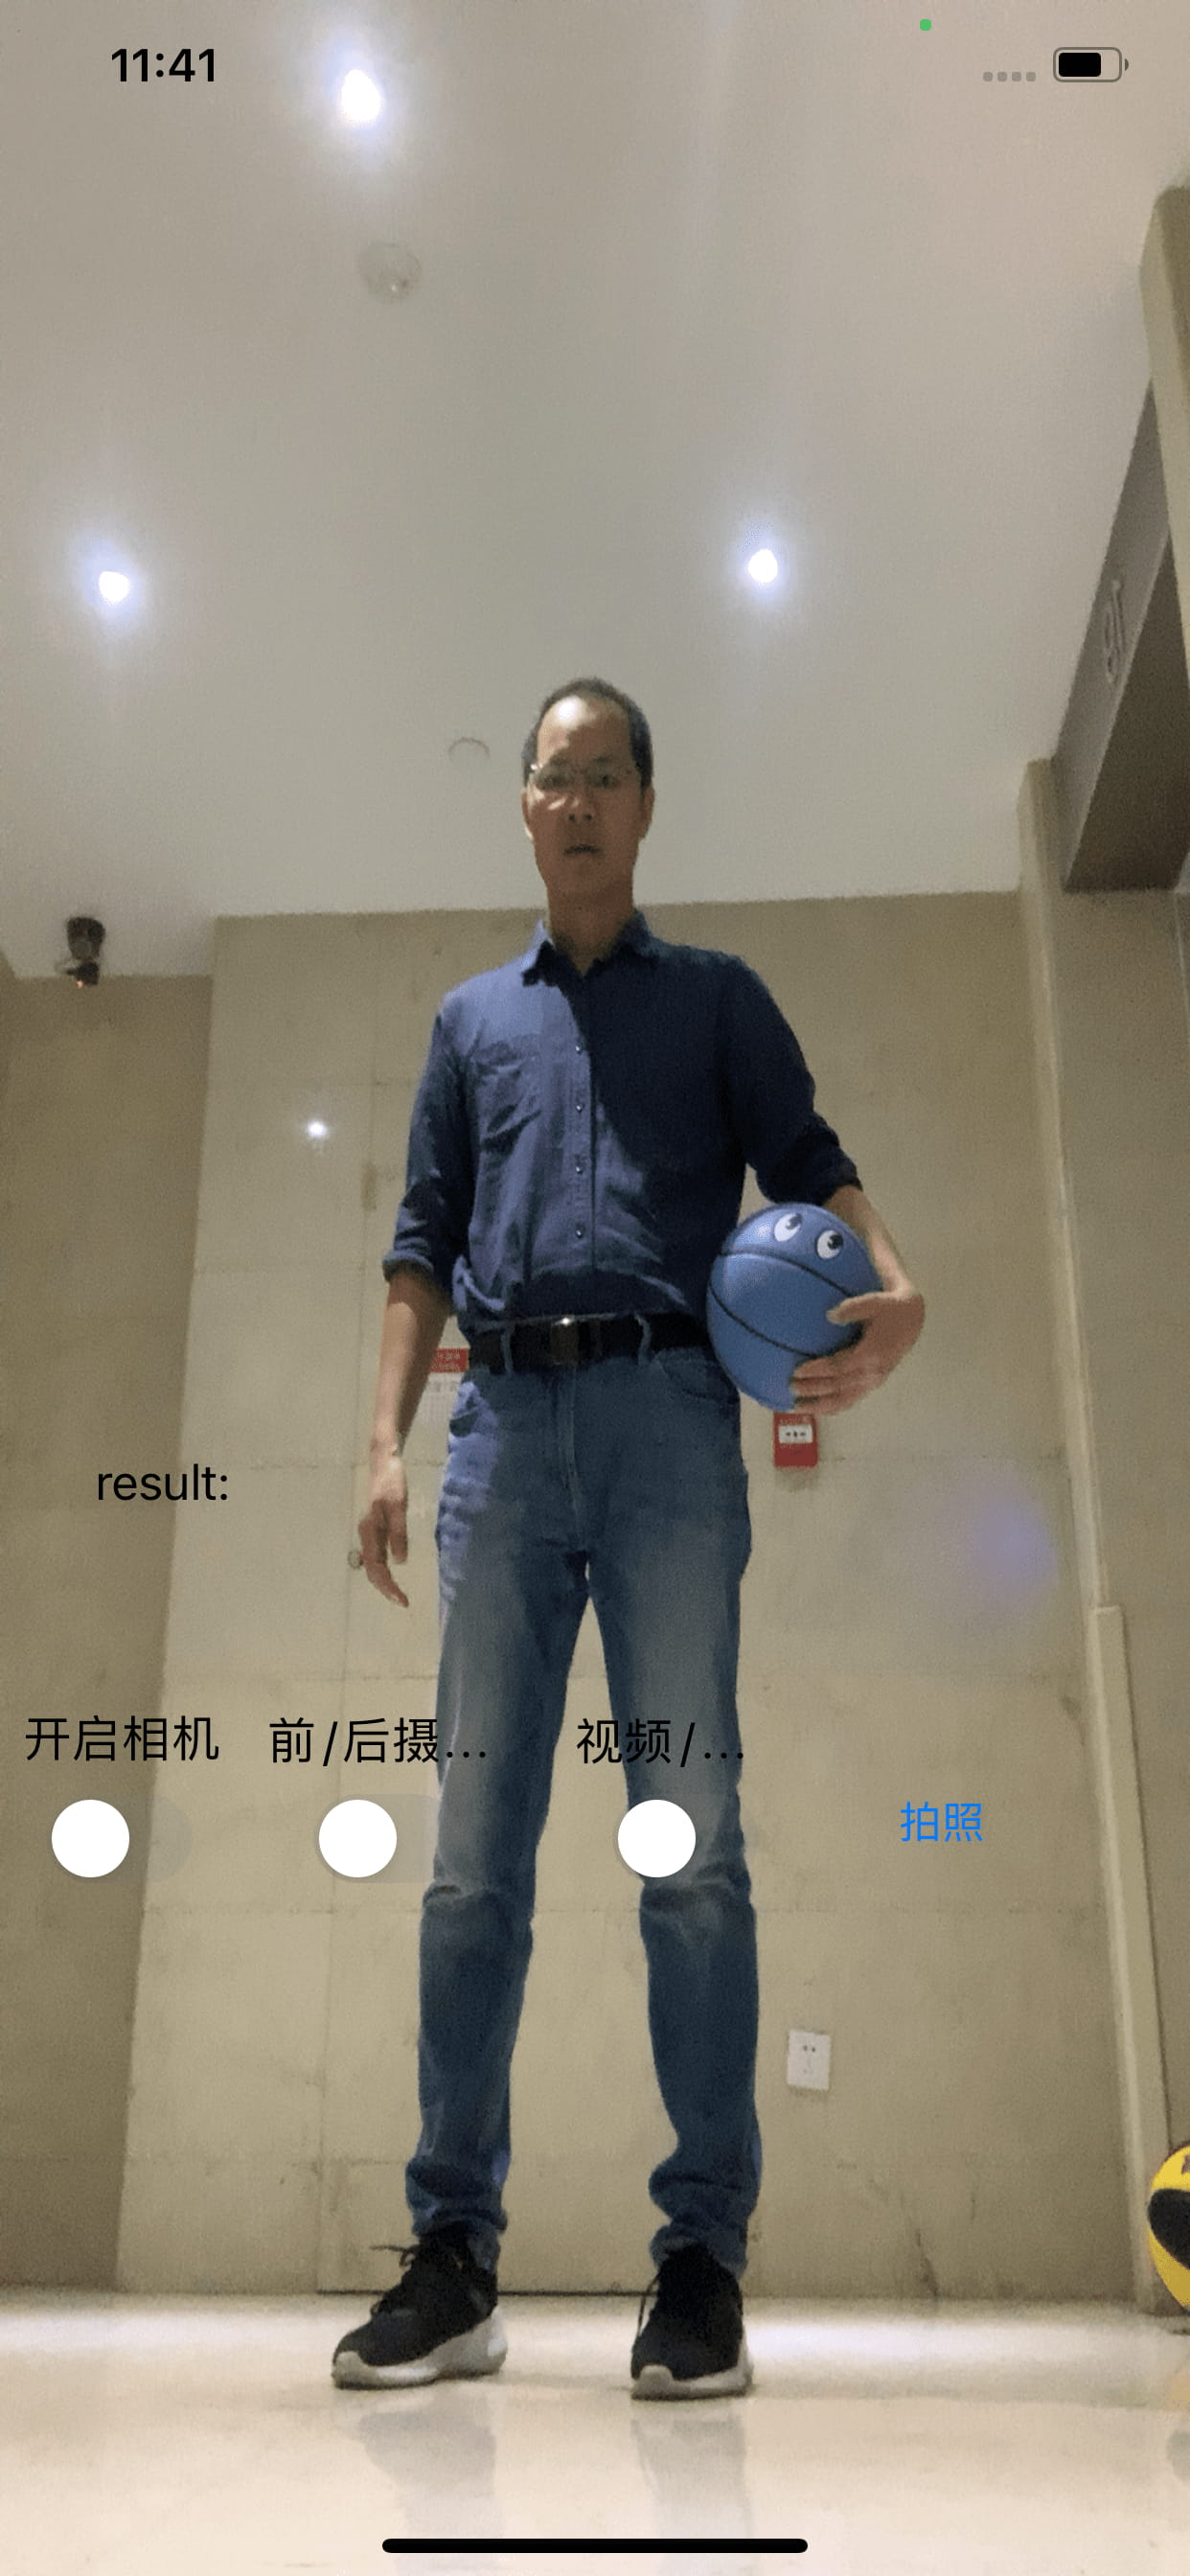ball: (703, 1206, 883, 1408)
